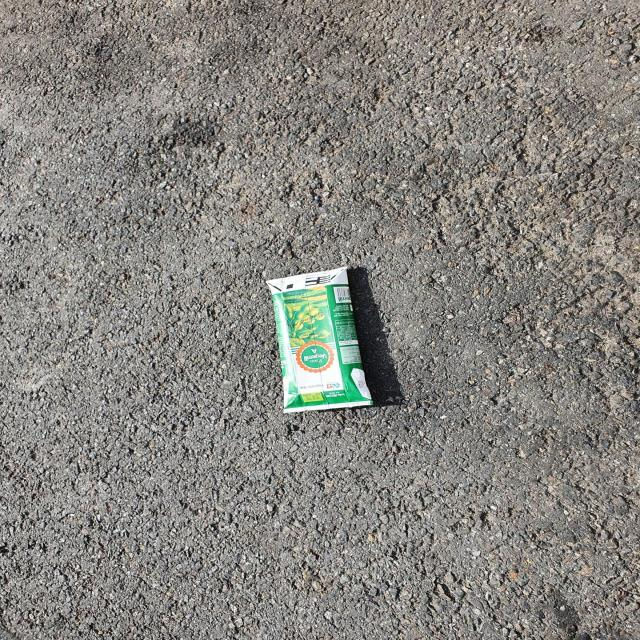paperpack: (266, 267, 373, 413)
